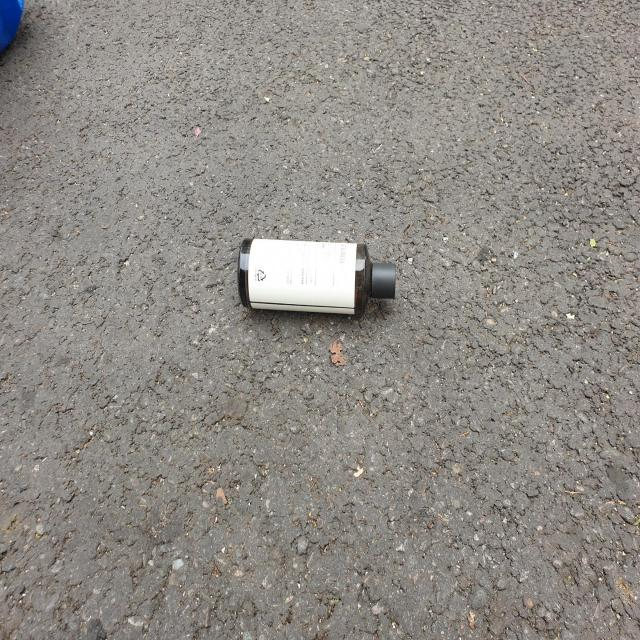glass: (237, 238, 396, 315)
